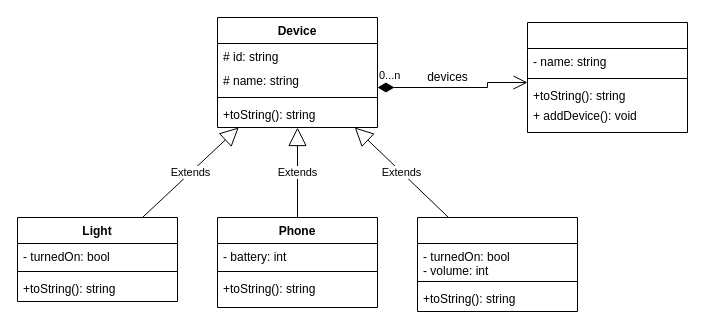
This 705x332 diagram has some shape labels left out. The shapes that lost their labels are listed below. From the top down, each one's box as (x1, y1, x2, y2) in pixels, then its label:
(526, 22, 688, 132): SmartHome
(416, 216, 578, 312): TV
